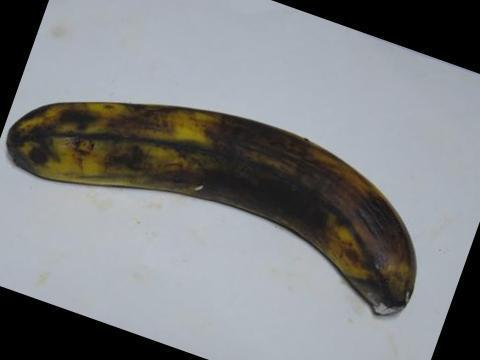overripe: (4, 87, 451, 346)
